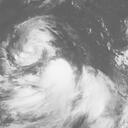cyclone: (9, 28, 57, 68)
